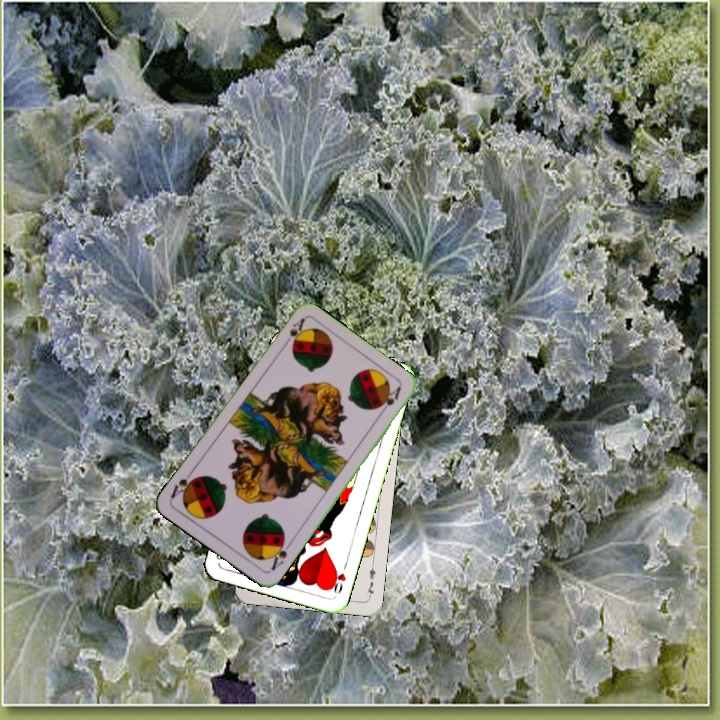E7: (363, 560, 378, 600)
HO: (326, 559, 350, 597)
SA: (279, 314, 307, 350), (266, 534, 290, 573)
